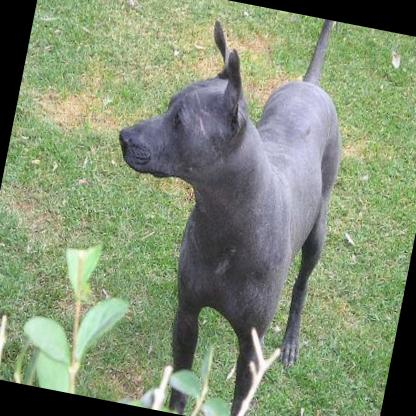Mexican_hairless: (67, 0, 365, 416)
